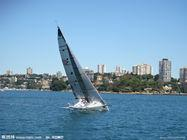fanchuan: (52, 25, 114, 110)
